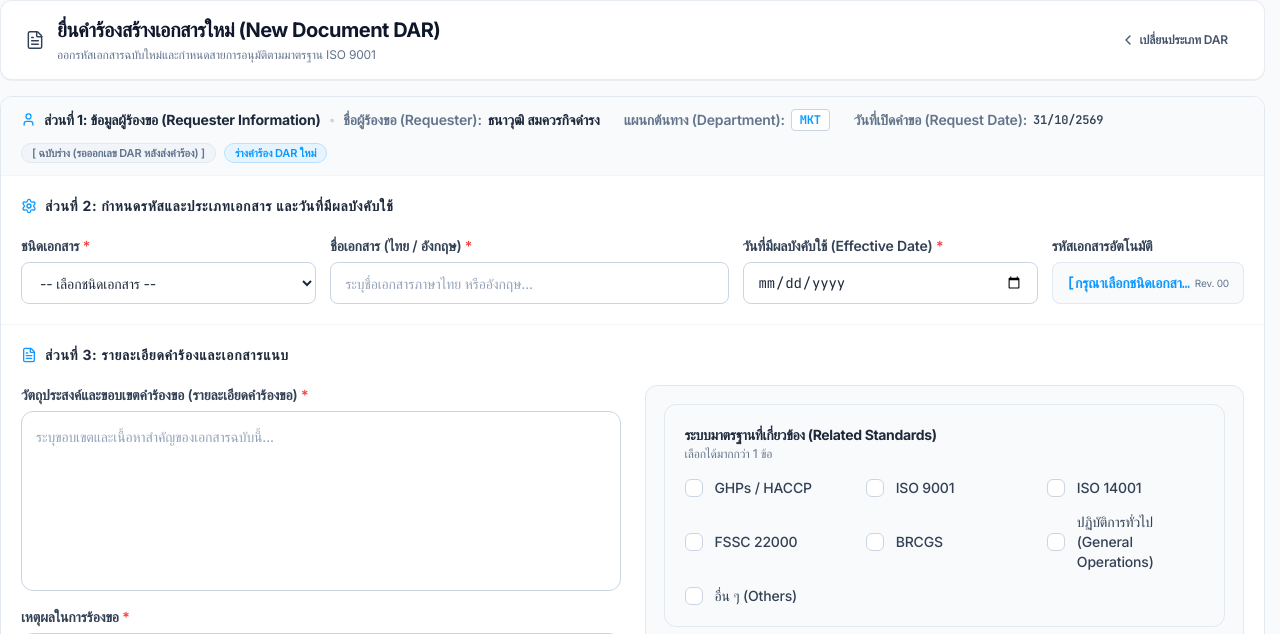
Test case: High-Density Unified DAR Create Form Canvas Tests › 3. Renders 4-column document identification grid with Effective Date integrated
Expected: the field with placeholder "ระบุชื่อเอกสารภาษาไทย หรืออังกฤษ..." is shown, top-left (330, 262), bottom-right (729, 304)
Expected: the date field is shown, top-left (743, 262), bottom-right (1038, 304)
Note: Select SOP
Select "ระเบียบปฏิบัติงาน (SOP)" in the dropdown. click: [169, 283]
box: top-left (21, 262), bottom-right (316, 304)
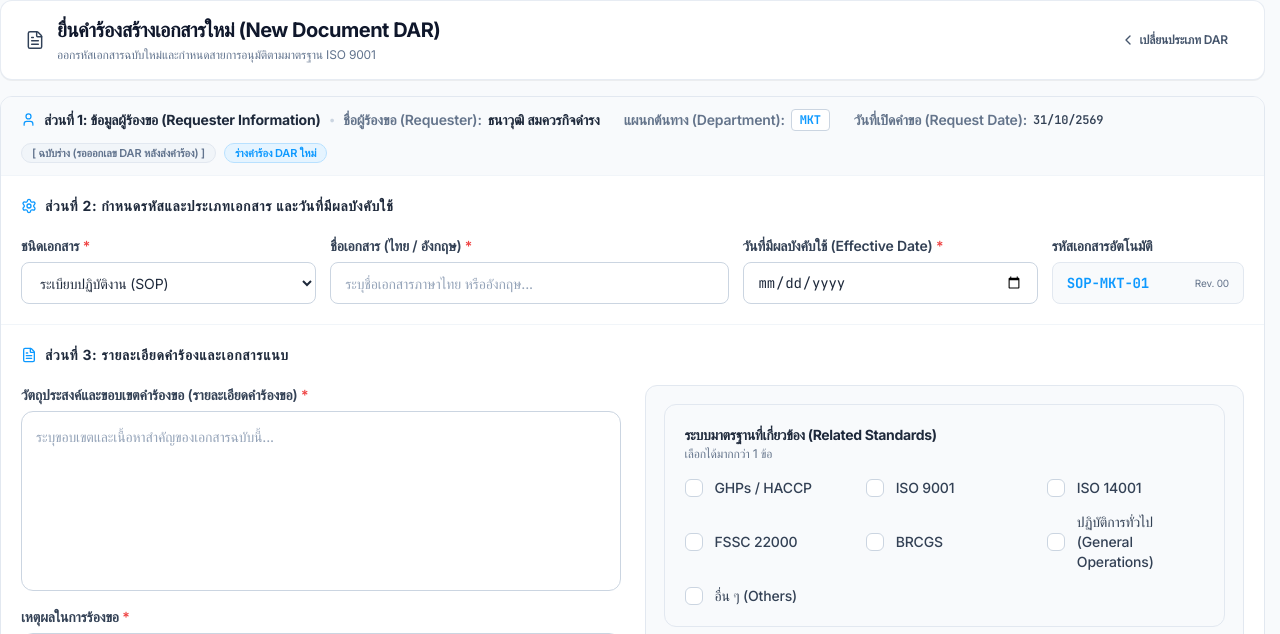
Expected: the text "Rev. 00" is shown, top-left (1195, 276), bottom-right (1229, 290)
Expected: the text "SOP-MKT-01" is shown, top-left (1067, 273), bottom-right (1149, 293)
